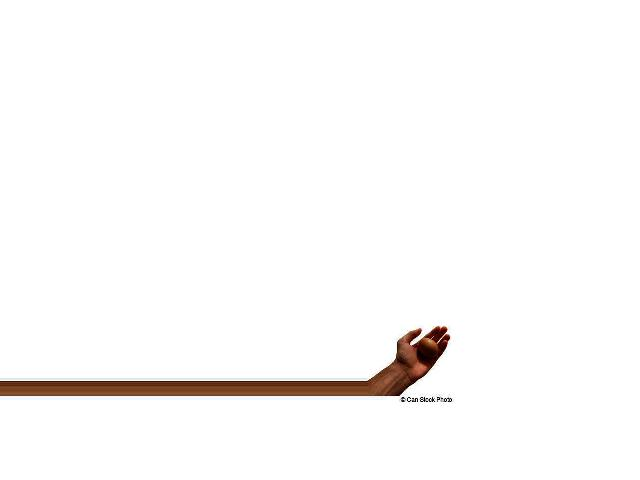egg: (420, 338, 439, 357)
